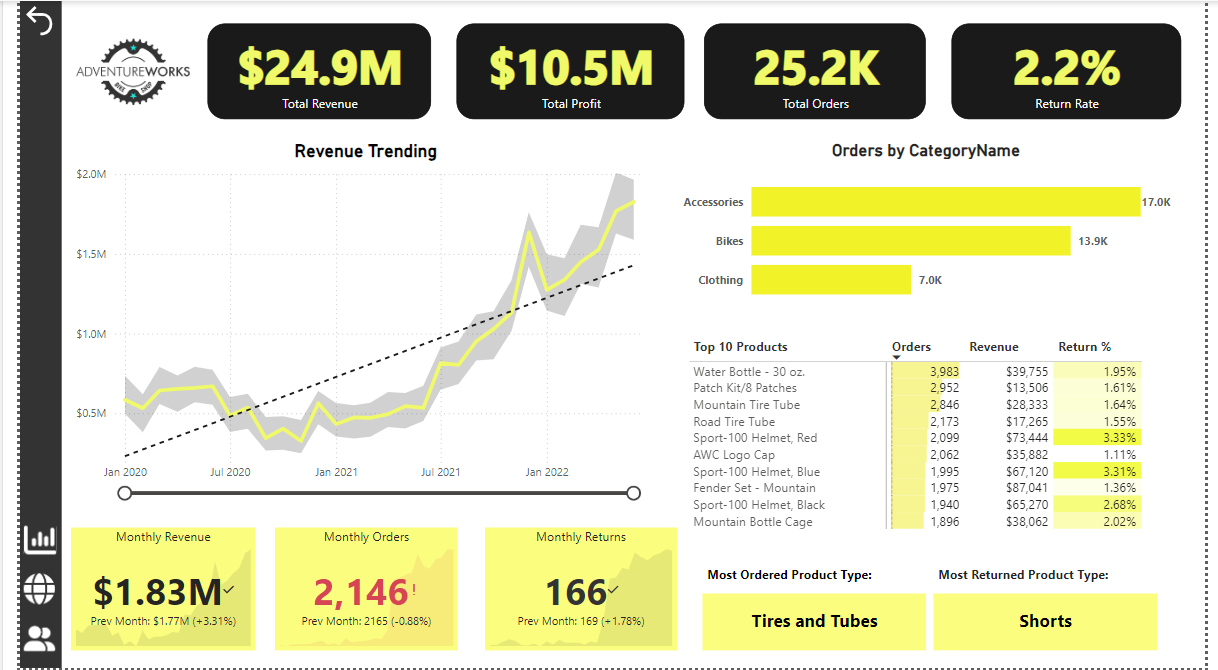

The page's visual inventory and layout, read from the dashboard file:
{"tool":"powerbi","page":{"name":"Main Dshboard","canvas":[1280,720],"ordinal":0},"visuals":[{"type":"image","box":[42.1,30.8,160.3,90.7],"z":0},{"type":"card","fields":{"Values":["Measure Table.Total Revenue"]},"box":[202.4,24.3,241.3,103.6],"z":1000},{"type":"card","fields":{"Values":["Measure Table.Total Profit"]},"box":[471.2,24.3,246.1,103.6],"z":2000},{"type":"card","fields":{"Values":["Measure Table.Total Orders"]},"box":[738.4,24.3,239.6,103.6],"z":3000},{"type":"card","fields":{"Values":["Measure Table.Return Rate"]},"box":[1005.5,24.3,247.7,103.6],"z":4000},{"type":"lineChart","title":"Revenue Trending","fields":{"Y":["Measure Table.Total Revenue"],"Category":["Calendar Lookup.Start of Month"]},"box":[55.1,150.6,636.4,391.9],"z":5000},{"type":"shape","title":"Left Nav Background","box":[0,0,45,720],"z":6000},{"type":"barChart","title":" Orders by CategoryName","fields":{"Category":["Product Categories Lookup.CategoryName"],"Y":["Measure Table.Total Orders"]},"box":[709.2,150.6,537.6,189.4],"z":7000},{"type":"pivotTable","fields":{"Rows":["Product Lookup.ProductName"],"Values":["Measure Table.Total Orders","Measure Table.Total Revenue","Measure Table.Return Rate"]},"box":[717.3,357.8,529.5,228.3],"z":8000},{"type":"card","fields":{"Values":["Min(Product Subcategories Lookup.SubcategoryName)"]},"box":[736.7,639.6,241.3,61.5],"z":9000},{"type":"card","fields":{"Values":["Min(Product Subcategories Lookup.SubcategoryName)"]},"box":[986.1,639.6,241.3,61.5],"z":10000},{"type":"textbox","box":[736.7,604,199.2,35.6],"z":11000},{"type":"textbox","box":[986.1,604,241.3,35.6],"z":12000},{"type":"kpi","title":"Monthly Revenue","fields":{"Indicator":["Measure Table.Total Revenue"],"TrendLine":["Calendar Lookup.Start of Month"],"Goal":["Measure Table.Previous Month Revenue"]},"box":[55.1,568.3,199.2,132.8],"z":13000},{"type":"kpi","title":"Monthly Orders","fields":{"TrendLine":["Calendar Lookup.Start of Month"],"Indicator":["Measure Table.Total Orders"],"Goal":["Measure Table.Previous Month Orders"]},"box":[275.3,568.3,197.5,132.8],"z":14000},{"type":"kpi","title":"Monthly Returns","fields":{"TrendLine":["Calendar Lookup.Start of Month"],"Indicator":["Measure Table.Total Returns"],"Goal":["Measure Table.Previous Month Returns"]},"box":[502,568.3,207.3,132.8],"z":15000},{"type":"actionButton","box":[0,560,45,43.3],"z":16000},{"type":"actionButton","box":[0,613.3,45,41.7],"z":17000},{"type":"actionButton","box":[0,667.1,45.3,42.1],"z":18000},{"type":"actionButton","box":[0,0,45.3,42.1],"z":20000}]}

Visuals, with their boxes on the page's 1280x720 design canvas (x1, y1, x2, y2). These are canvas units, not pixel positions in the 1218x670 screenshot, which may show the page scaled, cropped or inside an application window:
image: l=42, t=31, r=202, b=122
card - Measure Table.Total Revenue: l=202, t=24, r=444, b=128
card - Measure Table.Total Profit: l=471, t=24, r=717, b=128
card - Measure Table.Total Orders: l=738, t=24, r=978, b=128
card - Measure Table.Return Rate: l=1006, t=24, r=1253, b=128
"Revenue Trending" lineChart: l=55, t=151, r=692, b=542
"Left Nav Background" shape: l=0, t=0, r=45, b=720
" Orders by CategoryName" barChart: l=709, t=151, r=1247, b=340
pivotTable - Product Lookup.ProductName x Measure Table.Total Orders: l=717, t=358, r=1247, b=586
card - Min(Product Subcategories Lookup.SubcategoryName): l=737, t=640, r=978, b=701
card - Min(Product Subcategories Lookup.SubcategoryName): l=986, t=640, r=1227, b=701
textbox: l=737, t=604, r=936, b=640
textbox: l=986, t=604, r=1227, b=640
"Monthly Revenue" kpi: l=55, t=568, r=254, b=701
"Monthly Orders" kpi: l=275, t=568, r=473, b=701
"Monthly Returns" kpi: l=502, t=568, r=709, b=701
actionButton: l=0, t=560, r=45, b=603
actionButton: l=0, t=613, r=45, b=655
actionButton: l=0, t=667, r=45, b=709
actionButton: l=0, t=0, r=45, b=42
